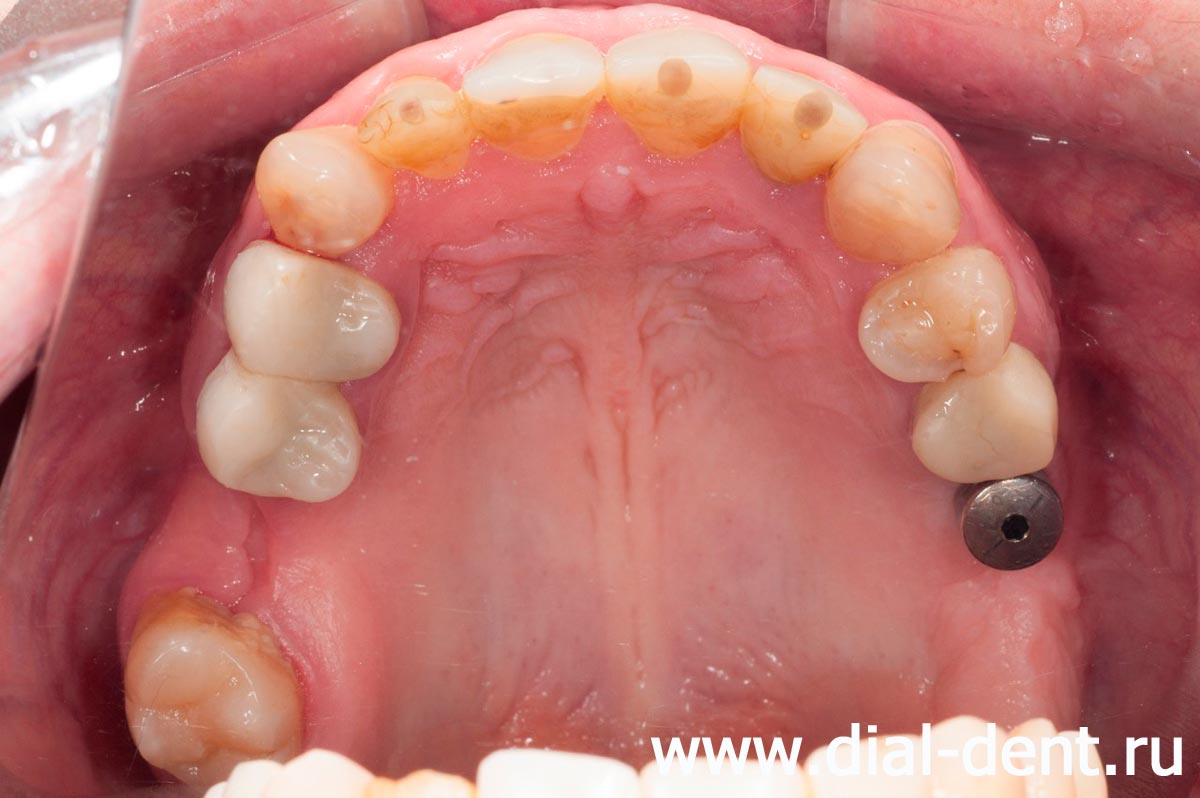UL1BC_decay: (856, 250, 1022, 387)
UL2BC_healthy: (903, 339, 1059, 491)
ULCI_decay: (601, 33, 745, 137)
ULC_decay: (829, 142, 957, 262)
ULLI_decay: (739, 51, 848, 182)
UR1BC_healthy: (222, 235, 409, 388)
UR2BC_healthy: (190, 346, 366, 505)
URCI_decay: (464, 32, 606, 143)
URC_decay: (255, 124, 383, 246)
URLI_decay: (368, 74, 477, 166)
